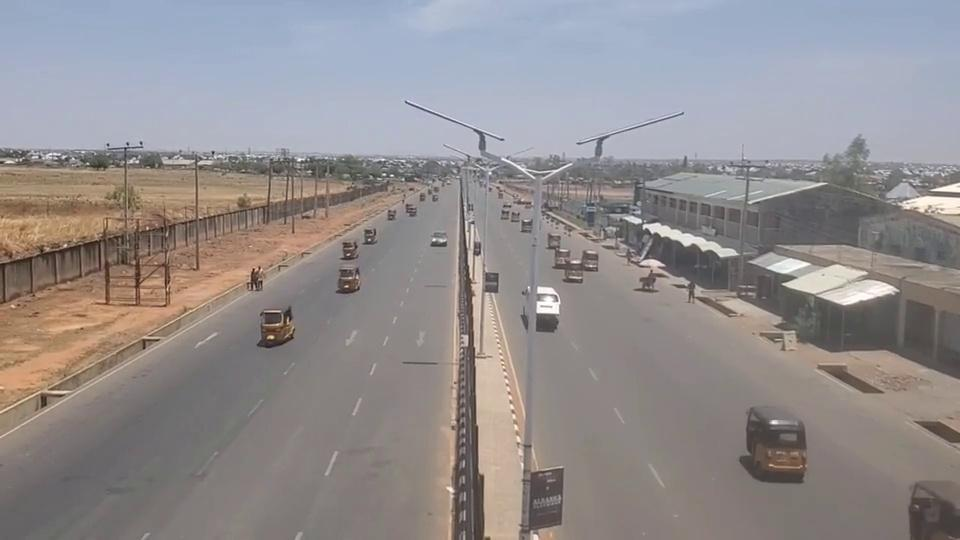bus: (525, 285, 561, 330)
car: (430, 231, 448, 247)
keke: (744, 404, 807, 479), (907, 481, 959, 538), (258, 306, 295, 346), (338, 266, 361, 293), (520, 218, 532, 232)
